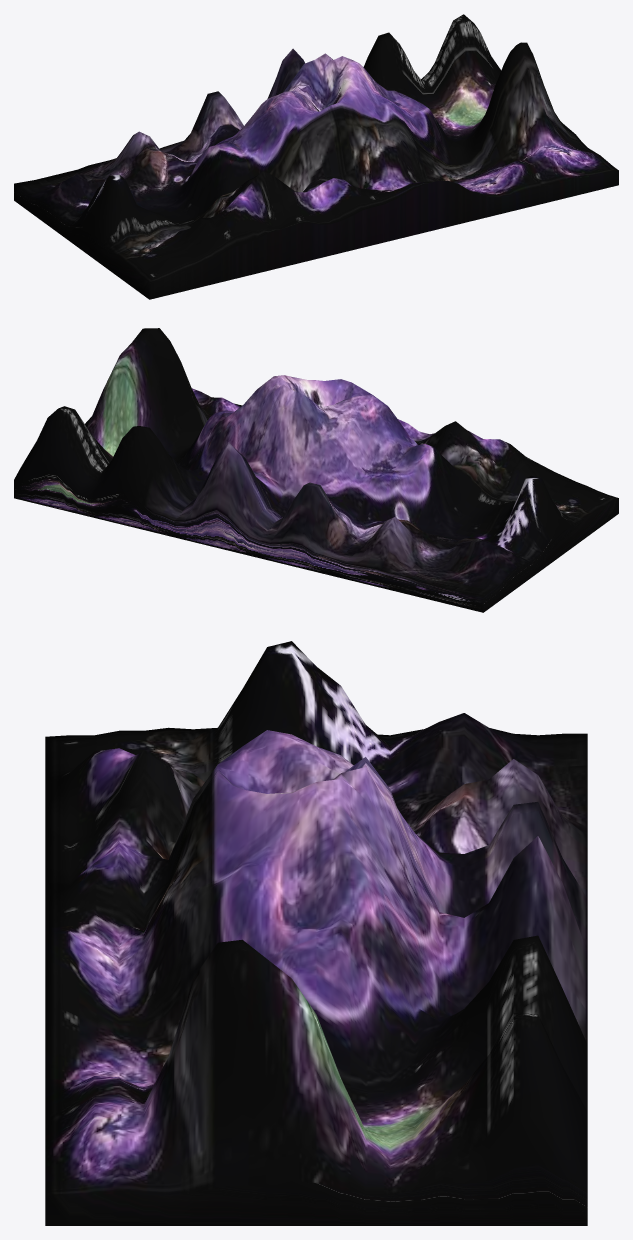
Rendered from CUL_60_Dream_Cultivation.glb.
3 views of the same model, one above another, from view 1: azimuth 30°, elevation 25°; view 2: azimuth 150°, elevation 25°; view 3: azimuth 270°, elevation 25° (orthographic). The views are drawn at different scales.
Parts seen in each view (by area): view 1: CUL_60_Dream_Cultivation; view 2: CUL_60_Dream_Cultivation; view 3: CUL_60_Dream_Cultivation.
Part boxes in pixels (box(x1,y1,x2,y2)): CUL_60_Dream_Cultivation: box(14, 14, 618, 299); CUL_60_Dream_Cultivation: box(14, 328, 618, 612); CUL_60_Dream_Cultivation: box(45, 641, 587, 1225).
Size of the model in its own units: 2 by 0.51 by 1.
1 material, 1 textured.
